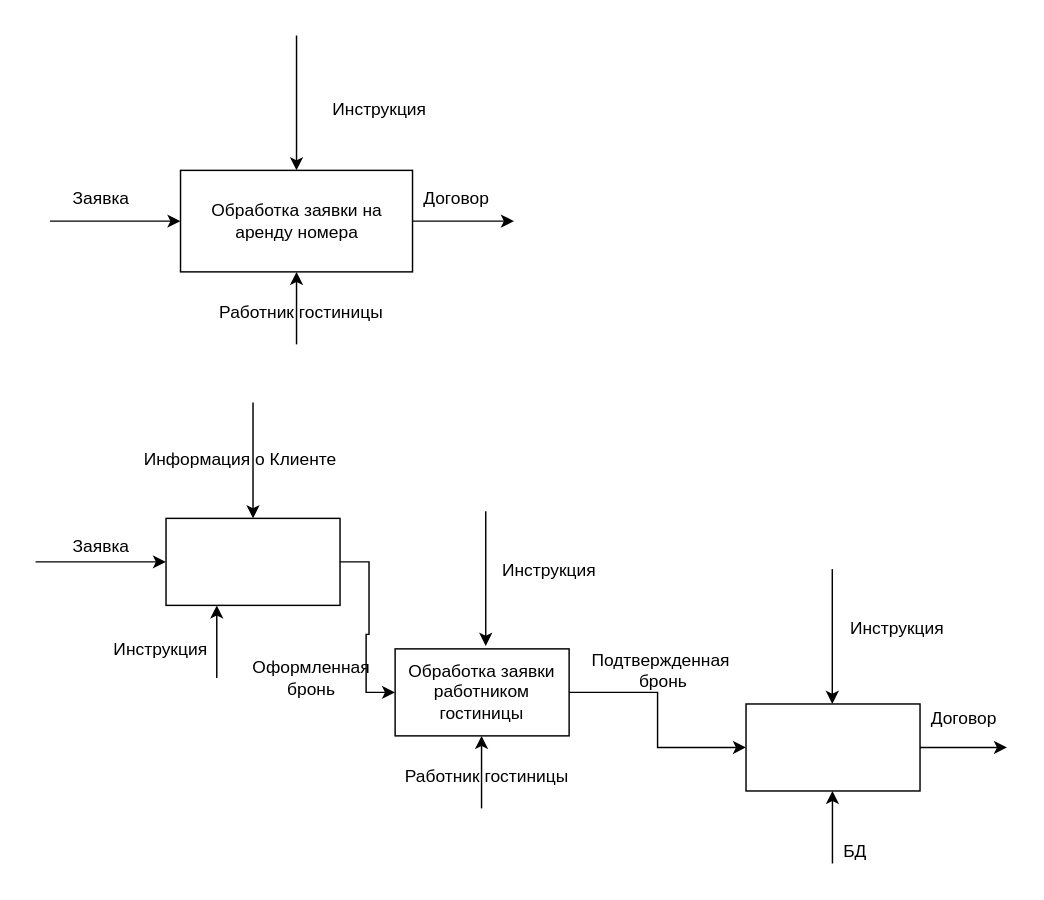
Image size: 1044x900. Some labels were removed from this diagram. The shapes that lost their labels are listed below. From the top down, each one's centre as x and y in pixels, then its label:
point (252, 561): Формирование заявки
point (832, 747): Запись в БД
